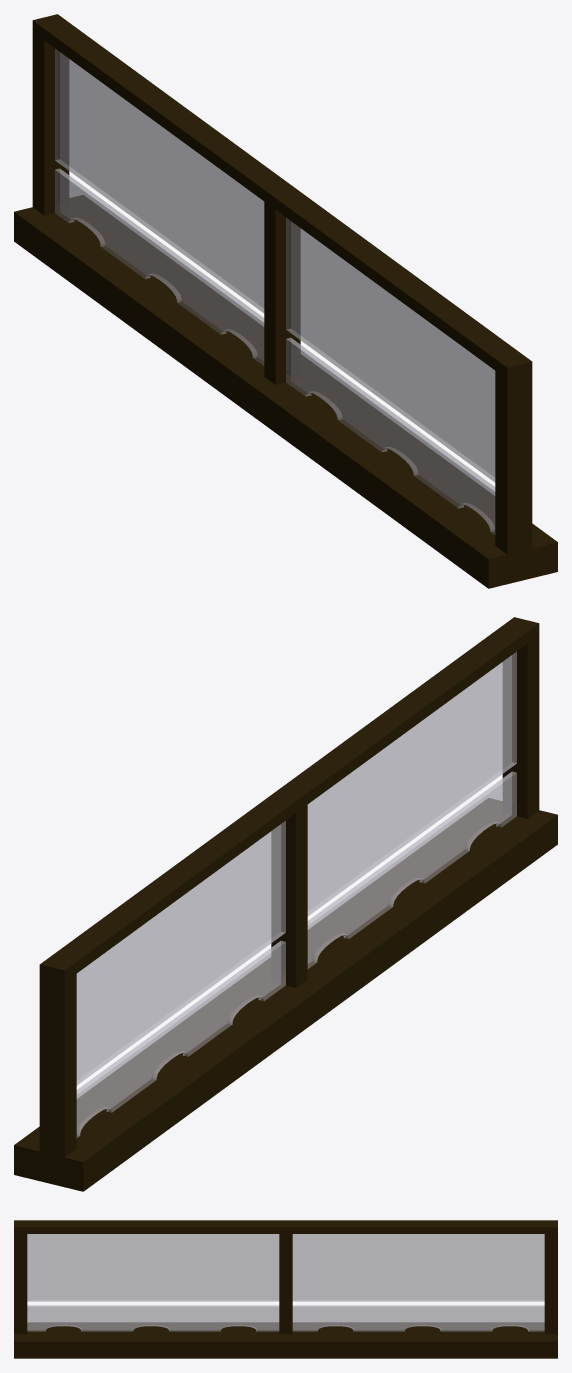
File: RegistrarAndCashierWindow(BOOL).fbx
3 views of the same model, one above another, from view 1: azimuth 30°, elevation 25°; view 2: azimuth 150°, elevation 25°; view 3: azimuth 270°, elevation 25° (orthographic). The views are drawn at different scales.
Visible parts, largest first — view 1: Cube; view 2: Cube; view 3: Cube.
Boxes of the visible parts, left/top/right/bottom form: Cube: left=14, top=14, right=557, bottom=588; Cube: left=14, top=617, right=557, bottom=1191; Cube: left=14, top=1220, right=557, bottom=1358.
Size of the model in its own units: 807 by 2407 by 9555.
